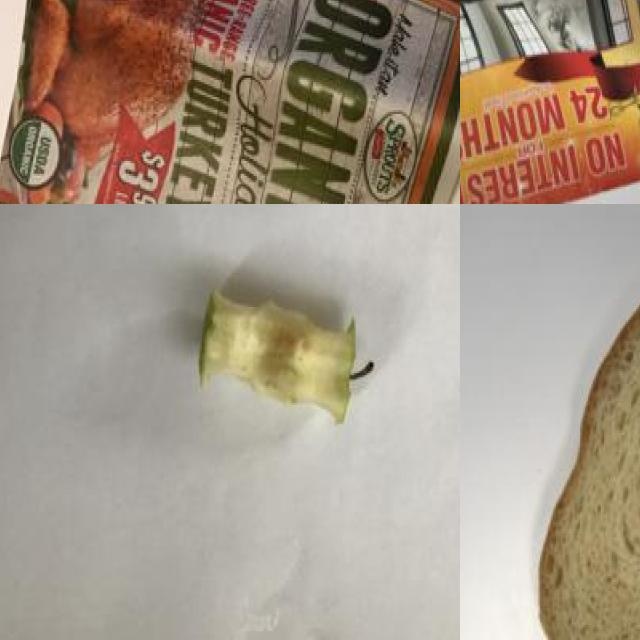compost: (535, 254, 640, 640), (194, 280, 378, 432)
paper: (0, 0, 460, 204), (460, 0, 640, 195)
